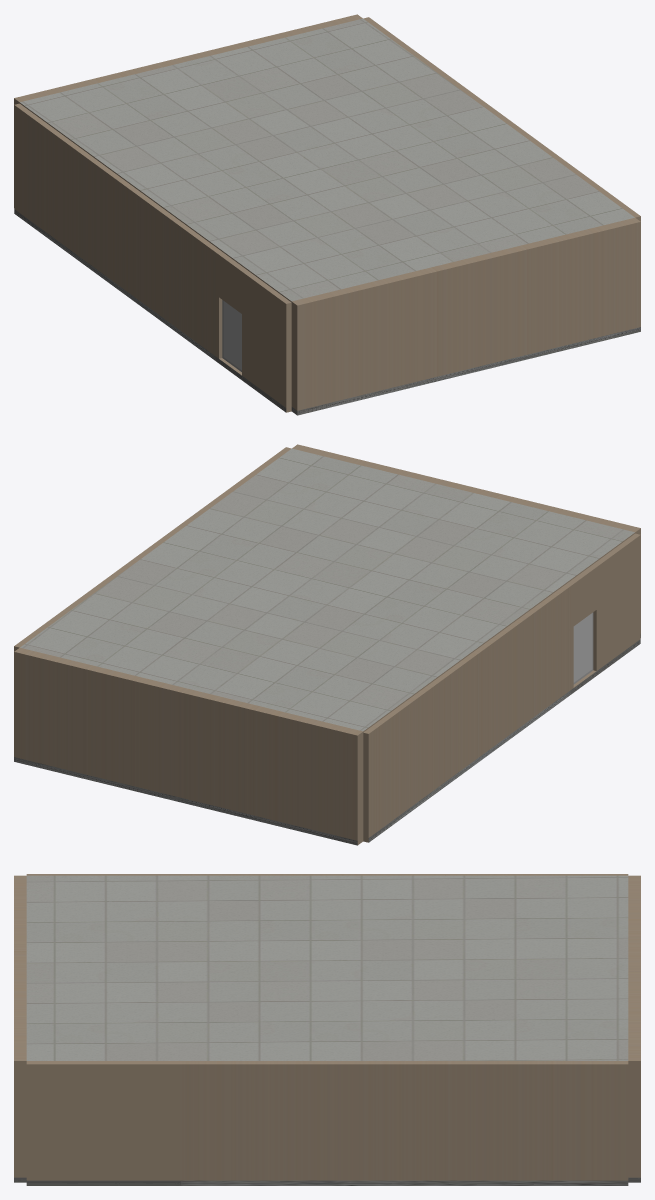
File: LABIAFINALISSIMAqueCrack.fbx
3 views of the same model, one above another, from view 1: azimuth 30°, elevation 25°; view 2: azimuth 150°, elevation 25°; view 3: azimuth 270°, elevation 25° (orthographic). The views are drawn at different scales.
Visible parts, largest first — view 1: TECHOO, AULA, PISO, puerta; view 2: TECHOO, AULA, PISO, puerta; view 3: TECHOO, AULA, PISO.
Boxes of the visible parts, x1=… form: TECHOO: x1=20, y1=18, x2=634, y2=301; AULA: x1=14, y1=14, x2=640, y2=412; PISO: x1=14, y1=209, x2=640, y2=415; puerta: x1=222, y1=300, x2=241, y2=371; TECHOO: x1=20, y1=448, x2=634, y2=731; AULA: x1=14, y1=444, x2=640, y2=844; PISO: x1=14, y1=634, x2=640, y2=845; puerta: x1=573, y1=612, x2=593, y2=684; TECHOO: x1=26, y1=875, x2=628, y2=1060; AULA: x1=14, y1=874, x2=640, y2=1180; PISO: x1=14, y1=1177, x2=640, y2=1185.
Bounding box in the file's own units: 2066 × 612 × 2859.
